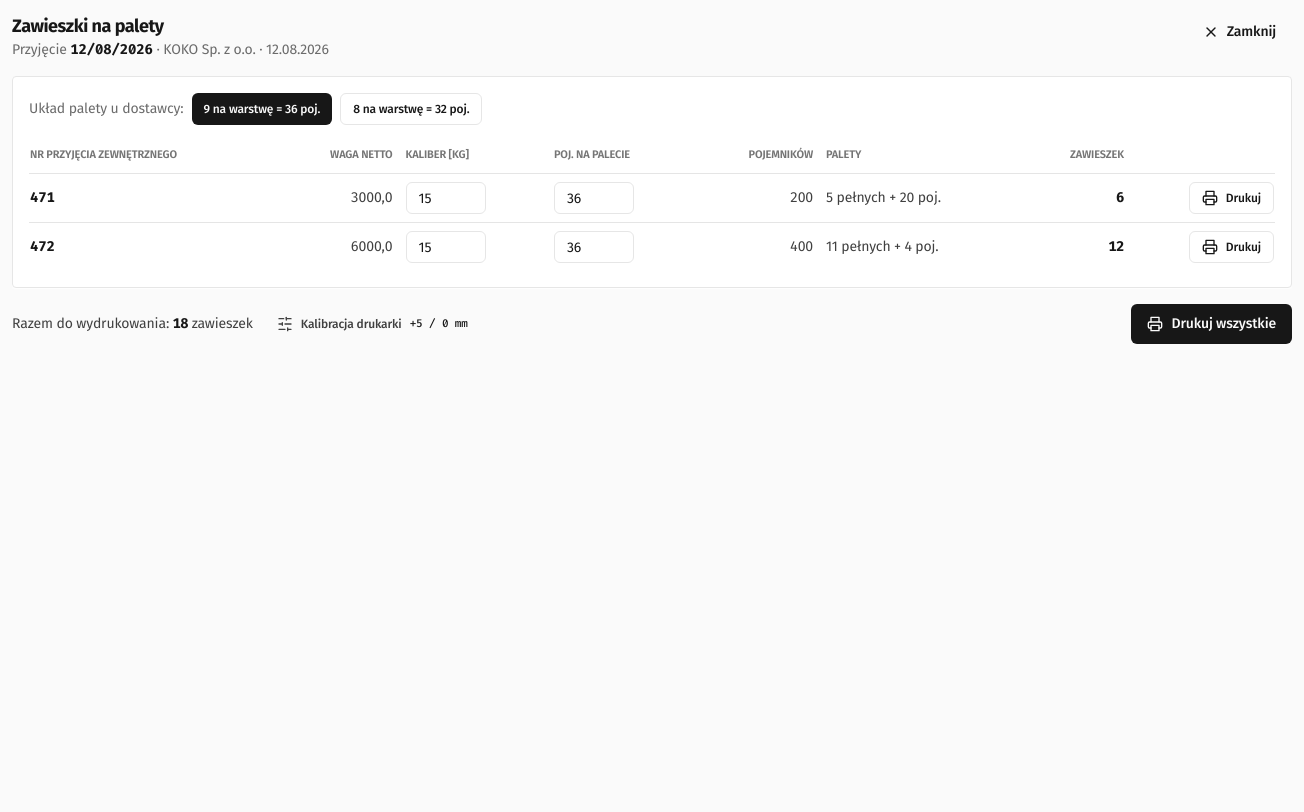
ReceptionTags — kalibracja drukarki › nie pozwala wyjechać poza zakres regulacji
What coordinates should you click on to do the following:
click the button labelled "Kalibracja drukarki +5 / 0 mm"
I would click on:
 (372, 324)
Its box is 265,308 -> 480,340.
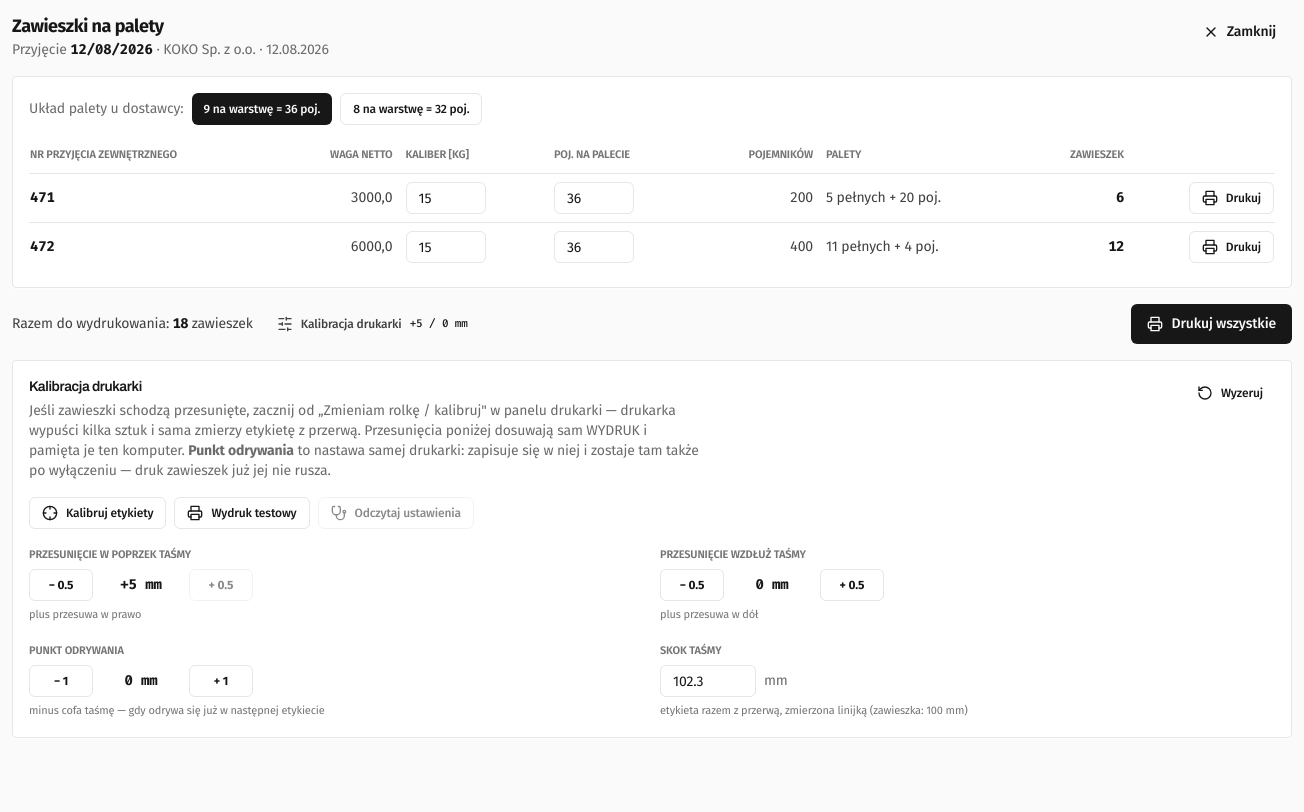
Expected: the button named "Przesunięcie w poprzek taśmy więcej" is disabled, 189,569 -> 253,601
